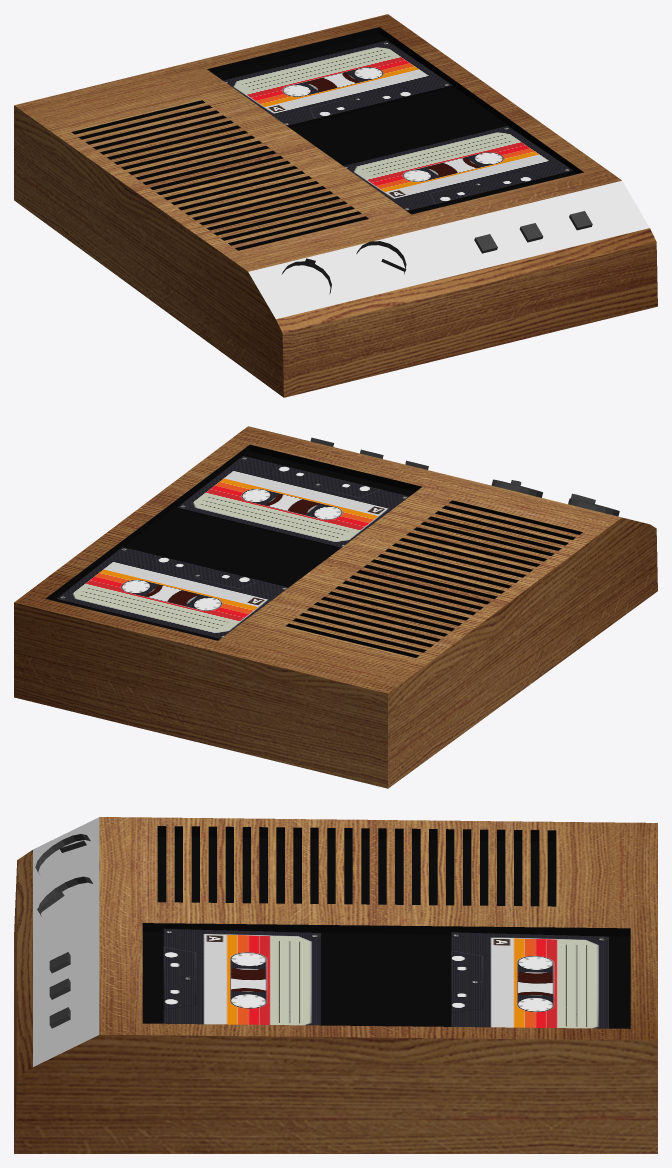
File: Answering_Machine.fbx
3 renders of one model, top to bottom at view 1: azimuth 30°, elevation 25°; view 2: azimuth 150°, elevation 25°; view 3: azimuth 270°, elevation 25°, orthographic. The views are drawn at different scales.
Parts seen in each view (by area): view 1: Plane, Plane.002, Plane.001; view 2: Plane, Plane.002, Plane.001; view 3: Plane, Plane.002, Plane.001, Knob 1, Knob 2.
Boxes of the visible parts, x1,y1,x2,y2 form: Plane: (14,14,657,397); Plane.002: (343,126,573,213); Plane.001: (223,40,452,127); Plane: (14,426,657,788); Plane.002: (177,456,409,547); Plane.001: (57,547,288,638); Plane: (14,817,657,1153); Plane.002: (163,928,320,1025); Plane.001: (451,932,608,1028); Knob 1: (35,834,90,874); Knob 2: (37,876,92,916).
Size of the model in its own units: 200 by 53.84 by 250.
